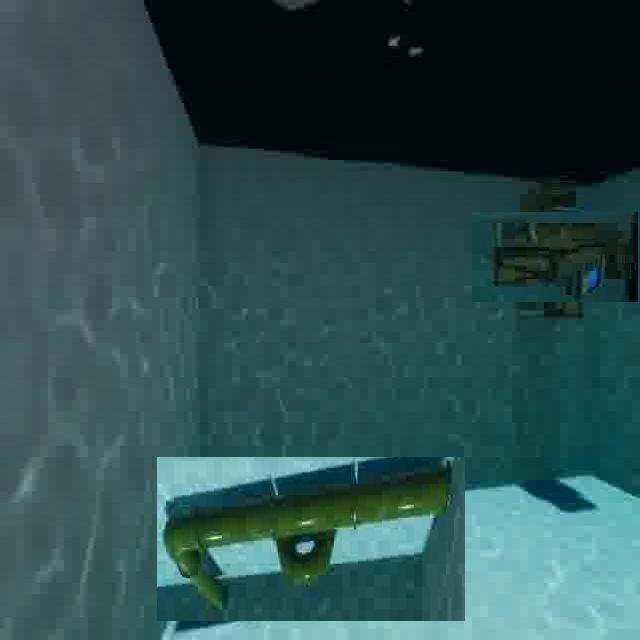Control Panel: (491, 193, 618, 321)
Pipe: (157, 456, 466, 621)
